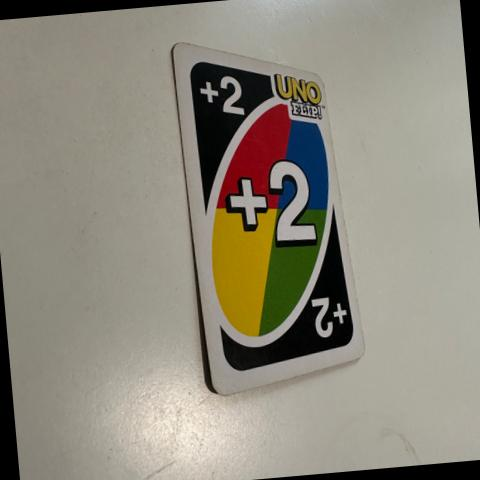lcolor2-50: (184, 60, 252, 132)
